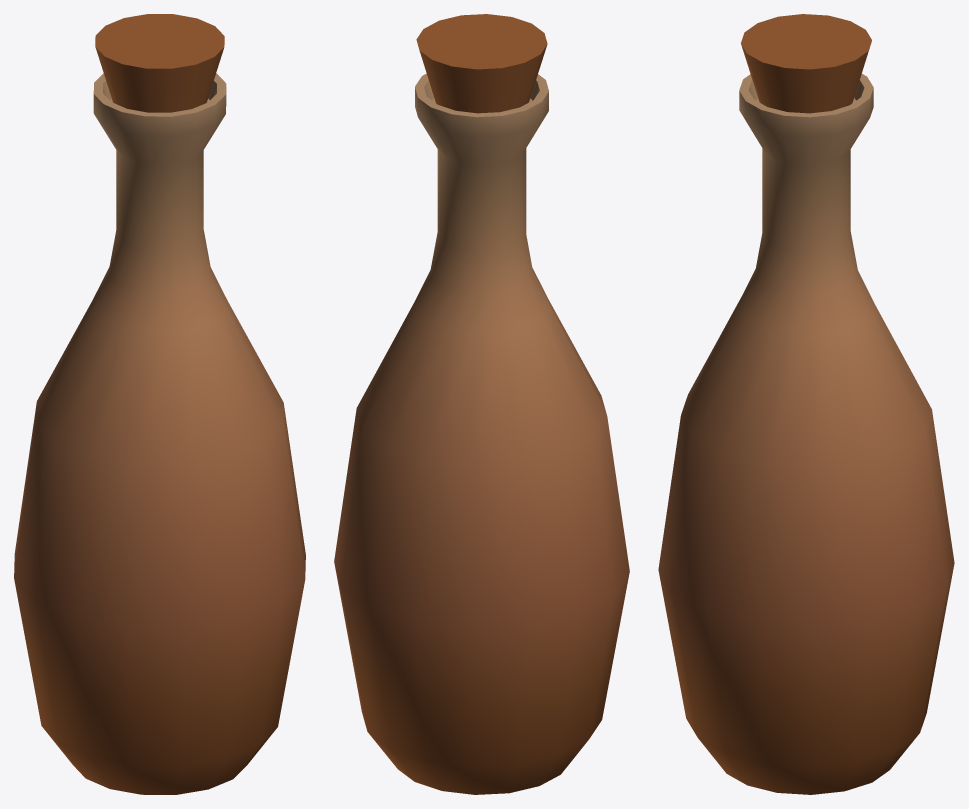
The model's file is WineBottle_2.fbx.
The picture shows the model from 3 angles, left to right: view 1: azimuth 30°, elevation 25°; view 2: azimuth 150°, elevation 25°; view 3: azimuth 270°, elevation 25°; orthographic projection.
Visible parts, largest first — view 1: WineBottle_2; view 2: WineBottle_2; view 3: WineBottle_2.
Part boxes in pixels (x1,y1,x2,y2): WineBottle_2: (14,14,305,794); WineBottle_2: (334,14,629,794); WineBottle_2: (658,14,954,794).
Size of the model in its own units: 18.25 by 48.68 by 18.25.
